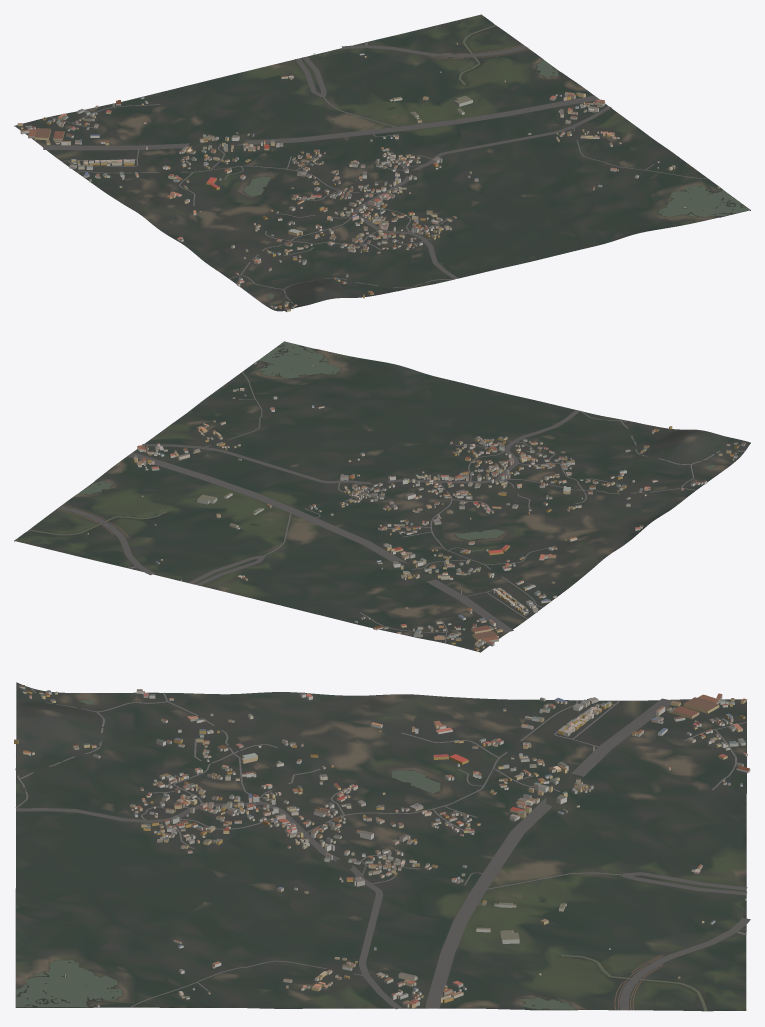
The picture shows the model from 3 angles, top to bottom: view 1: azimuth 30°, elevation 25°; view 2: azimuth 150°, elevation 25°; view 3: azimuth 270°, elevation 25°; orthographic projection. The views are drawn at different scales.
Parts seen in each view (by area): view 1: ground, buildings, roads, water; view 2: ground, buildings, roads, water; view 3: ground, buildings, roads, water.
Boxes of the visible parts, x1,y1,x2,y2 form: ground: (14, 14, 750, 311); buildings: (17, 42, 719, 311); roads: (14, 42, 708, 311); water: (243, 25, 749, 298); ground: (14, 342, 750, 652); buildings: (87, 362, 745, 651); roads: (56, 372, 745, 652); water: (28, 341, 715, 540); ground: (15, 682, 746, 1011); buildings: (14, 685, 750, 1008); roads: (15, 688, 750, 1010); water: (16, 700, 707, 1011).
Bounding box in the file's own units: 1413 × 51.6 × 1414.
